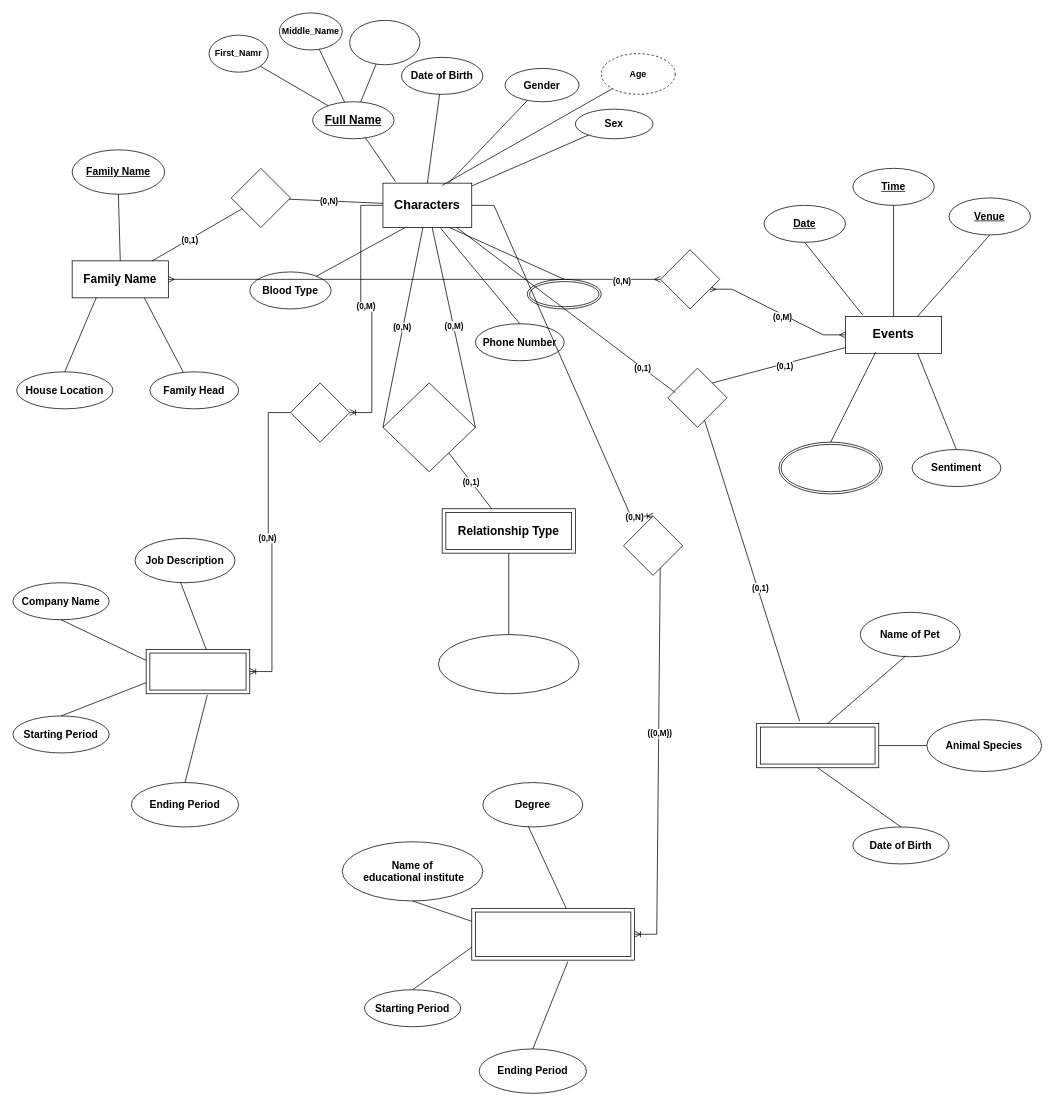
Some shapes in this 1055 by 1106 pixel diagram are drawn without their labels. The centre of each missing label's shape, as x and y in pixels:
Adopted By: point (697, 397)
Belongs to: point (260, 198)
Education: point (653, 545)
Educational Institutes: point (553, 934)
Involved in: point (690, 279)
Last_Name: point (384, 42)
Name of relationship type: point (508, 664)
Occupations: point (197, 671)
People Invloved: point (830, 467)
Pets: point (817, 745)
Quirks: point (564, 294)
Related To: point (428, 427)
Working at: point (320, 412)
